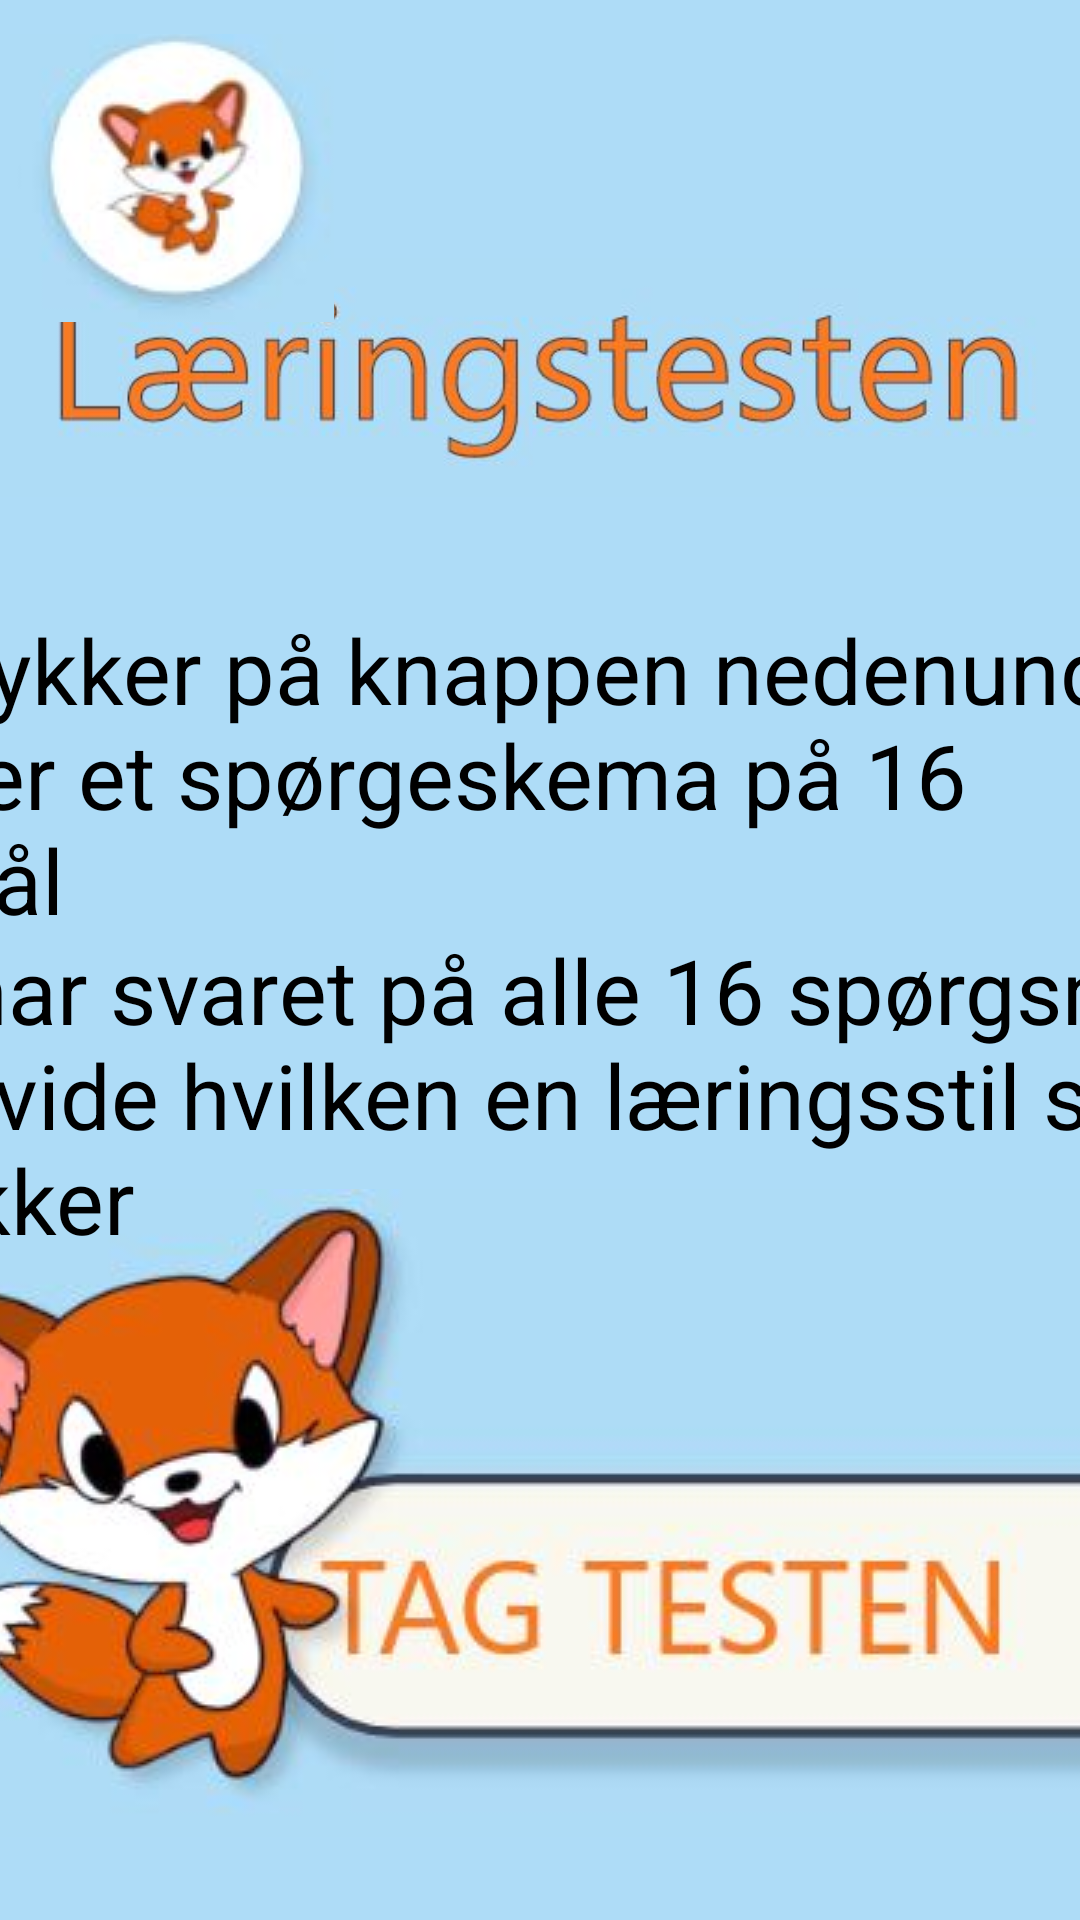

Point at icon controls on the screen. Image size 1080*1920, points as (x,y).
dinprofil: (176,171)
